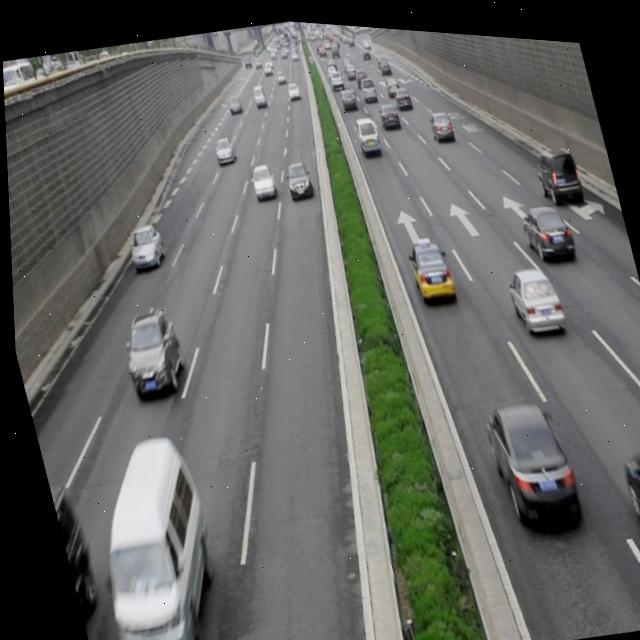car: (476, 385, 576, 521), (110, 301, 188, 401), (501, 252, 564, 332), (516, 192, 574, 259), (528, 131, 582, 200), (615, 431, 640, 575), (402, 229, 453, 299), (121, 217, 167, 272), (280, 154, 314, 197), (245, 157, 277, 199), (427, 102, 454, 137), (209, 129, 235, 164)
truck: (70, 423, 231, 640), (351, 108, 382, 153)
